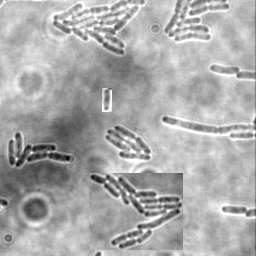Dividing: (161, 114, 255, 133), (221, 204, 248, 215), (102, 88, 112, 112)
Microcolony: (89, 173, 183, 250), (51, 1, 147, 56), (162, 1, 231, 44), (8, 130, 72, 167), (106, 124, 153, 160), (208, 63, 240, 74)
